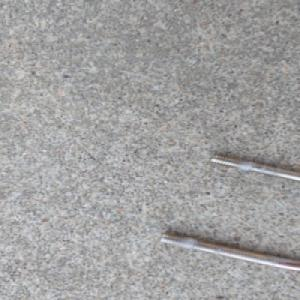ClampPart: (158, 150, 300, 273)
